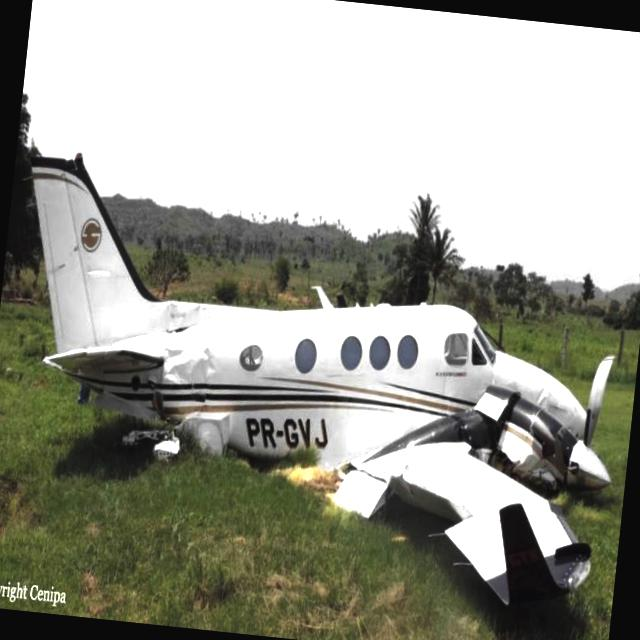dent: (162, 326, 222, 398)
